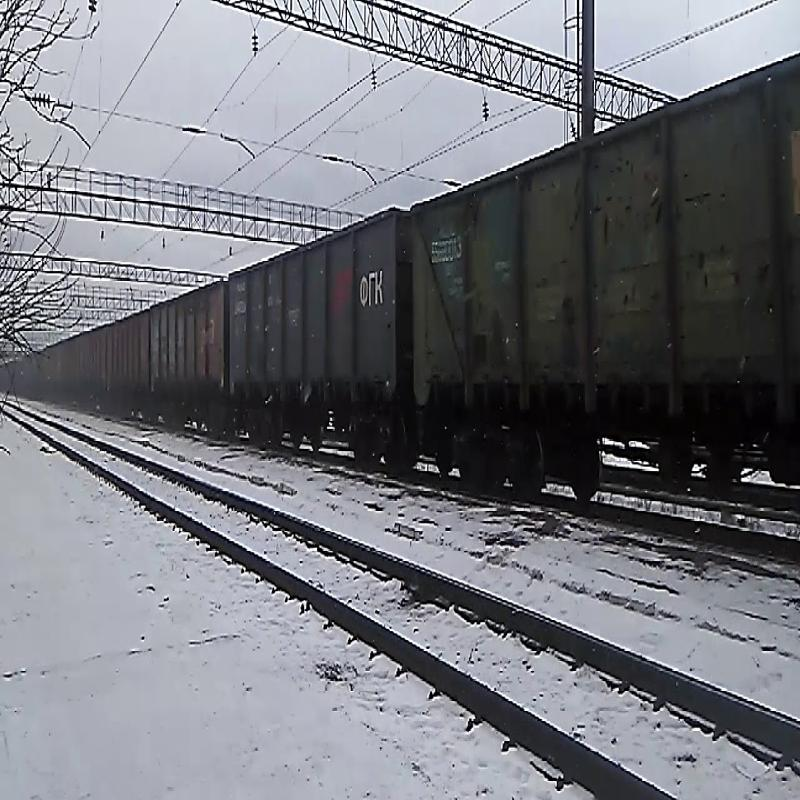train: (410, 78, 800, 546), (213, 221, 425, 493), (138, 258, 239, 440)
